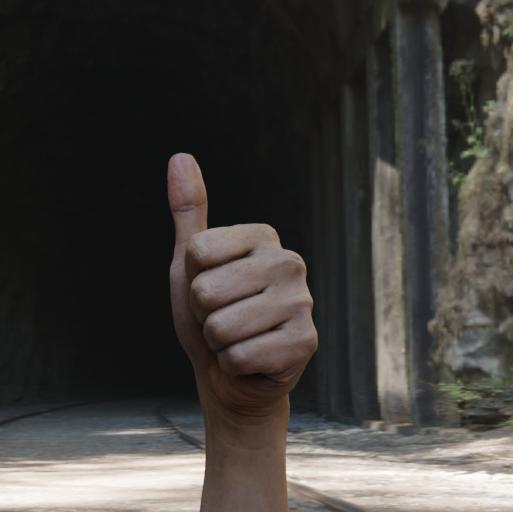thumbs-up: (168, 146, 320, 416)
